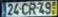2: (6, 2, 14, 15)
4: (38, 1, 45, 14), (12, 3, 19, 15)
9: (44, 1, 52, 14)
C: (20, 2, 28, 15)
R: (28, 2, 36, 16)
